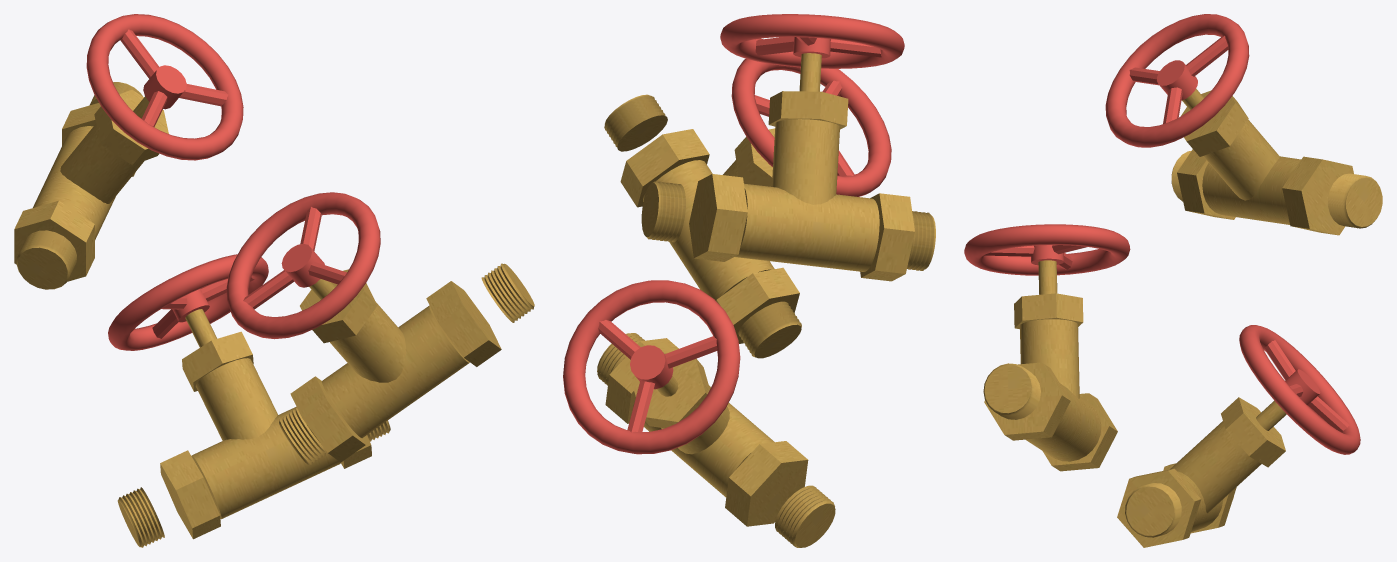
Rendered from HID-REG-001_anim.glb.
3 views of the same model, side by side, from view 1: azimuth 30°, elevation 25°; view 2: azimuth 150°, elevation 25°; view 3: azimuth 270°, elevation 25° (orthographic). The views are drawn at different scales.
Visible parts, largest first — view 1: HID-REG-001_anim1, HID-REG-001_anim2, HID-REG-001_anim0; view 2: HID-REG-001_anim2, HID-REG-001_anim0, HID-REG-001_anim1; view 3: HID-REG-001_anim2, HID-REG-001_anim1, HID-REG-001_anim0.
Boxes of the visible parts, x1,y1,x2,y2 form: HID-REG-001_anim1: (226, 192, 534, 464); HID-REG-001_anim2: (14, 14, 243, 289); HID-REG-001_anim0: (108, 254, 390, 547); HID-REG-001_anim2: (641, 14, 935, 281); HID-REG-001_anim0: (563, 280, 835, 547); HID-REG-001_anim1: (604, 59, 891, 358); HID-REG-001_anim2: (1105, 14, 1382, 235); HID-REG-001_anim1: (964, 224, 1130, 471); HID-REG-001_anim0: (1117, 325, 1360, 547).
Size of the model in its own units: 0.2155 by 0.2591 by 0.2009.
Materials: 2 (1 with a texture image).
